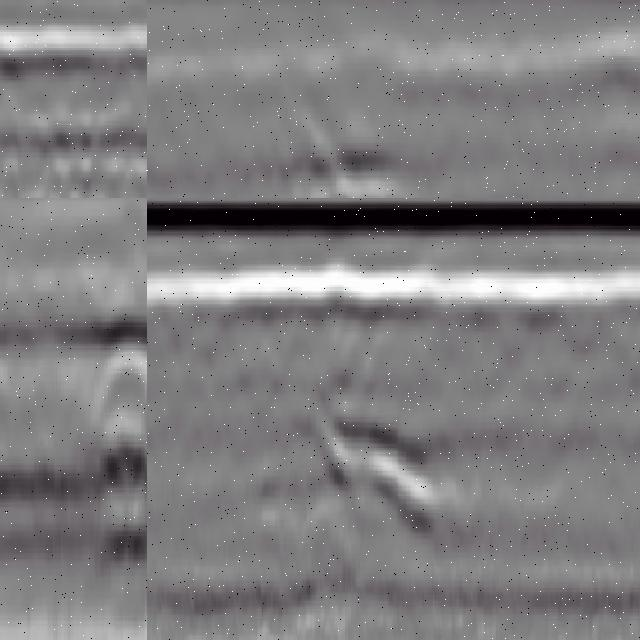loose: (89, 284, 148, 585), (327, 407, 463, 531), (1, 99, 103, 199)
